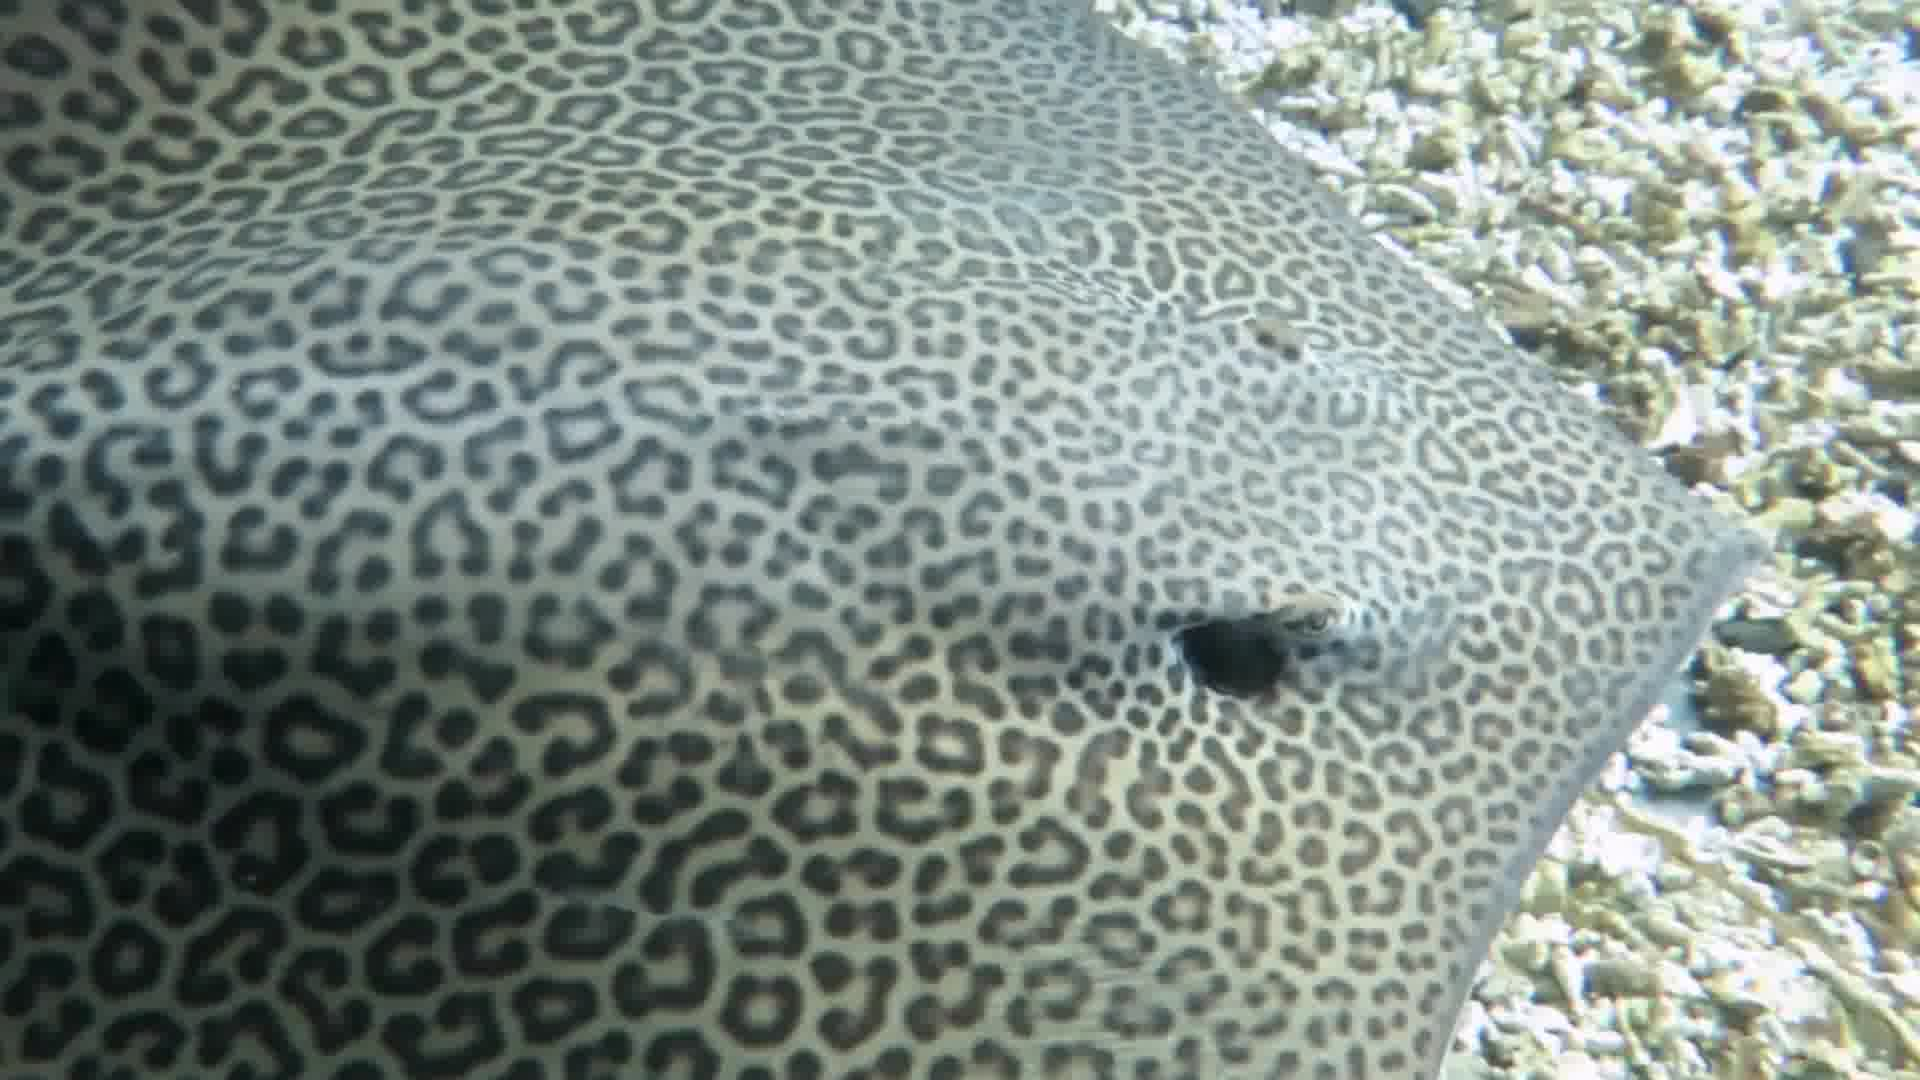Himantura uarnak: (1, 1, 1764, 1080)
